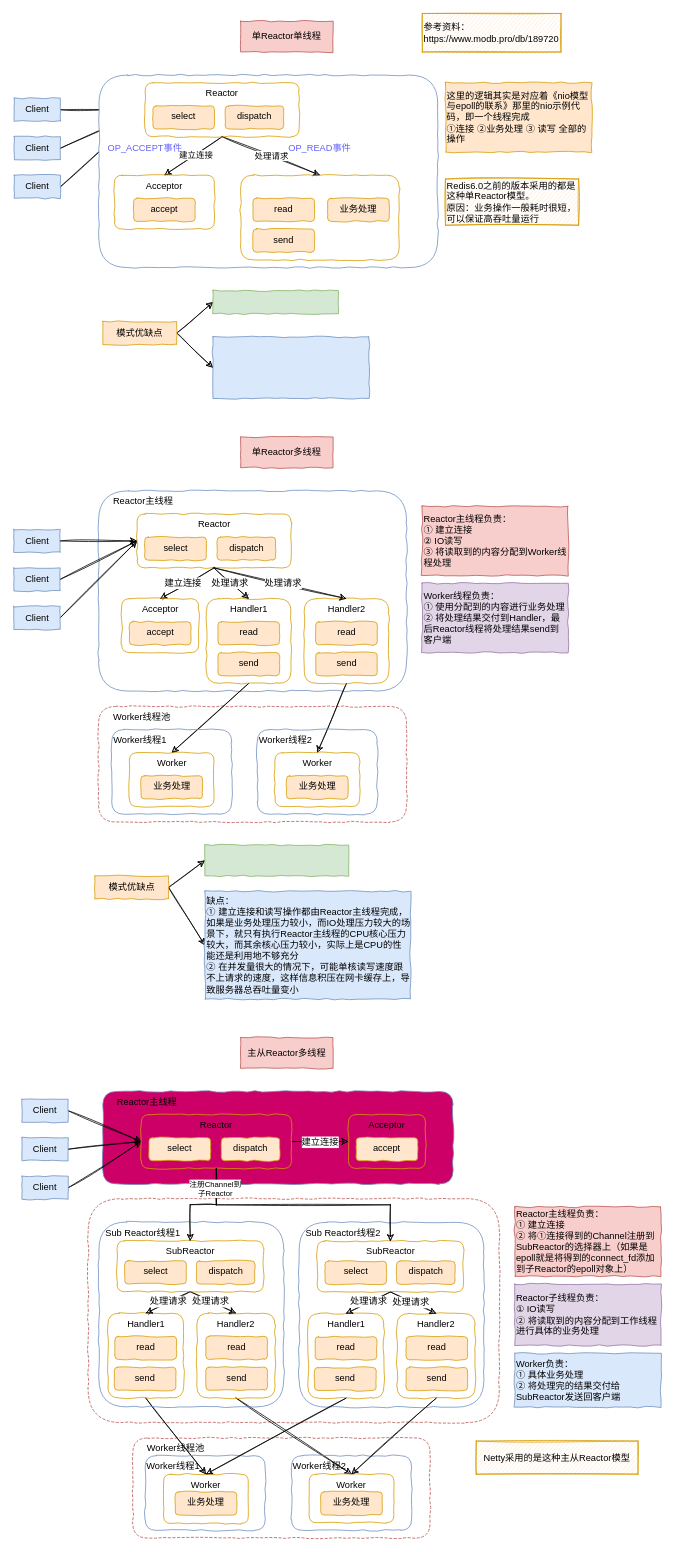
The diagram is 675 pixels wide and 1552 high, and some of its shapes have lost their labels. The box of each missing label's shape, as (x1, y1, x2, y2) in pixels:
Handler: (240, 174, 399, 260)
Sub Reactor线程池: (87, 1198, 499, 1423)
优点：模型简单, 线程数量少: (212, 290, 338, 314)
优点：相比但Reactor单线程，充分利用到了多核CPU的性能: (204, 844, 349, 876)
缺点： ① 无法充分利用多核CPU的性能，压力全部压到一个核上 ② ⼀个线程挂掉或循环, 整个服务挂掉，不可靠: (212, 336, 369, 398)
